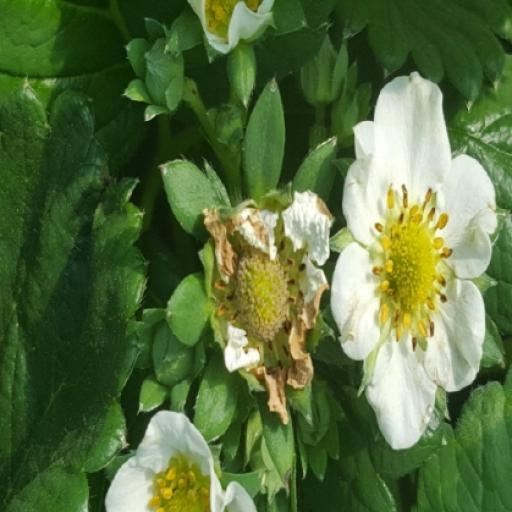Blossom Blight: (55, 179, 143, 355), (206, 222, 299, 376)
